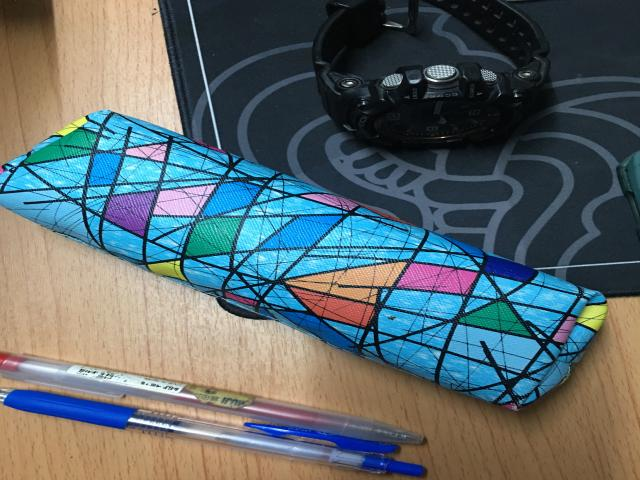Pen: (0, 353, 423, 443), (0, 389, 423, 475)
Watch: (312, 0, 550, 147)
